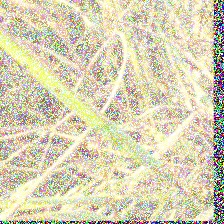Bacterial_Leaf_Blight: (18, 57, 33, 72), (51, 82, 66, 95), (127, 144, 140, 153)
